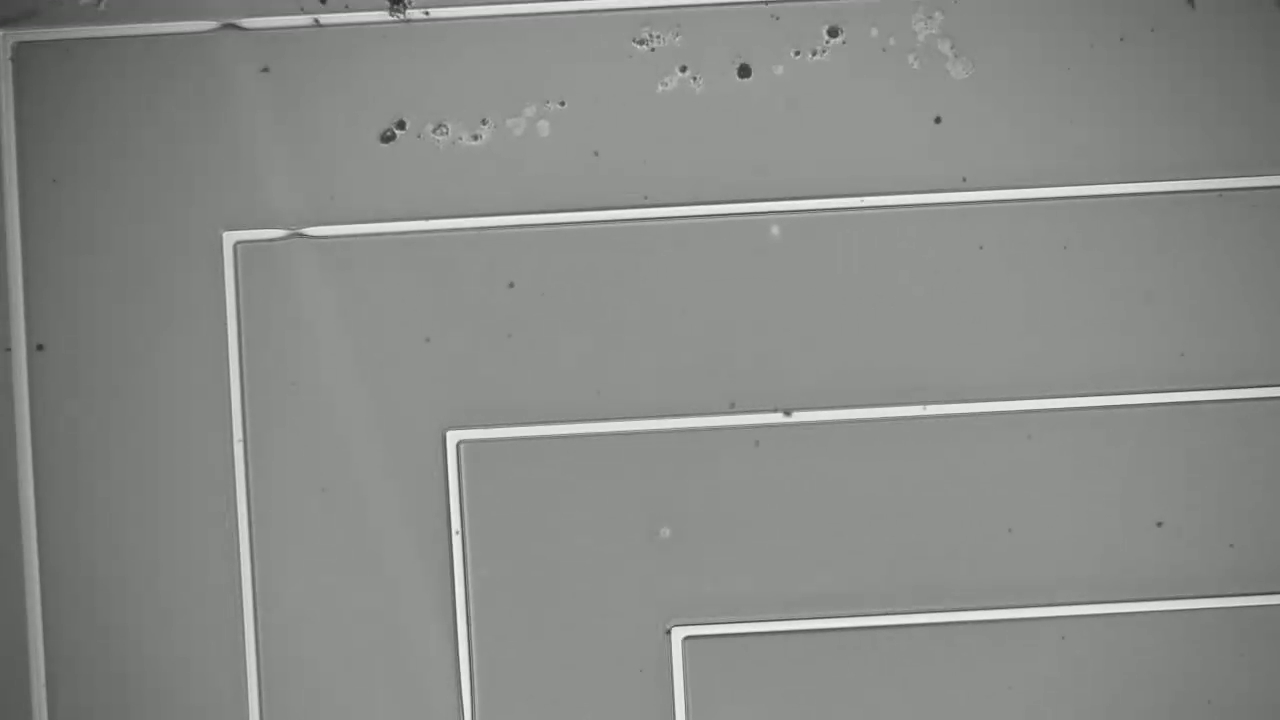edge_bite: (272, 216, 326, 253), (207, 10, 255, 42)
stains_enbedded: (375, 1, 433, 29)
